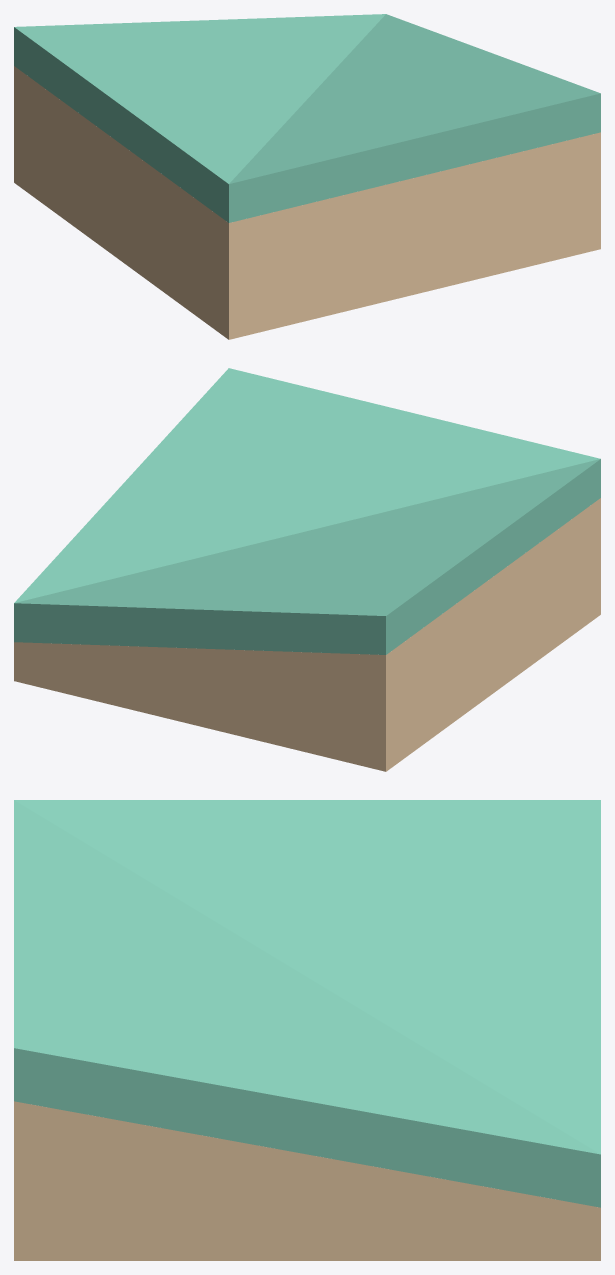
The model's file is tile_cornerInner.glb.
3 renders of one model, top to bottom at view 1: azimuth 30°, elevation 25°; view 2: azimuth 150°, elevation 25°; view 3: azimuth 270°, elevation 25°, orthographic. The views are drawn at different scales.
Visible parts, largest first — view 1: tile_cornerInner; view 2: tile_cornerInner; view 3: tile_cornerInner.
Part boxes in pixels (box(x1,y1,x2,y2)): tile_cornerInner: box(14, 14, 600, 339); tile_cornerInner: box(14, 368, 600, 771); tile_cornerInner: box(14, 800, 600, 1260).
Size of the model in its own units: 1 by 0.4 by 1.
